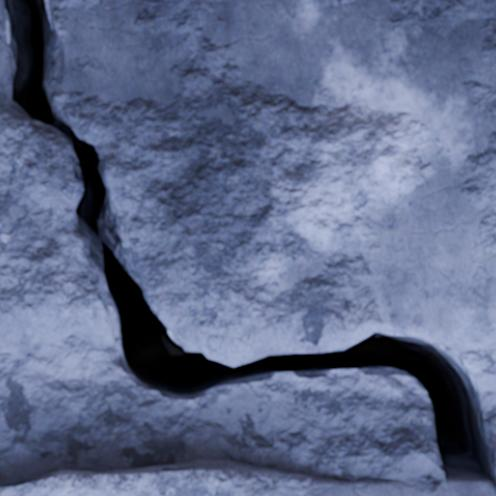brick: (0, 461, 424, 495), (430, 482, 495, 495)
broken_brick: (51, 0, 495, 366), (0, 105, 112, 354), (0, 44, 3, 65), (0, 18, 1, 34)
crack: (0, 0, 495, 494), (65, 327, 77, 337)
